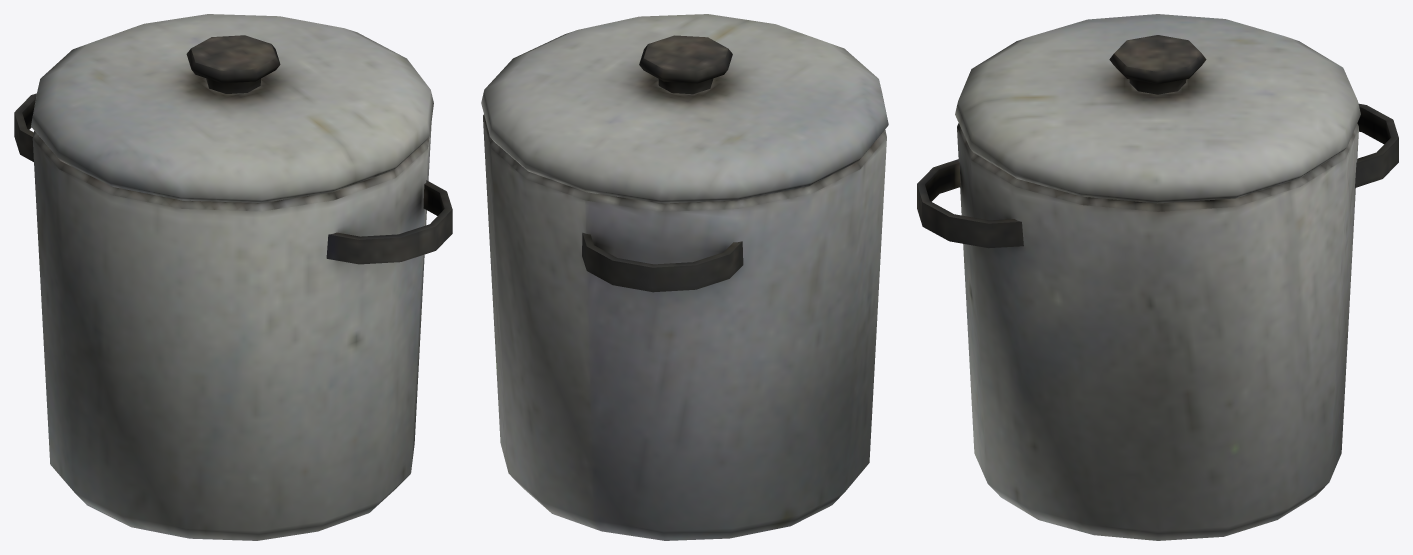
Rendered from MetalContainer.FBX.
3 views of the same model, side by side, from view 1: azimuth 30°, elevation 25°; view 2: azimuth 150°, elevation 25°; view 3: azimuth 270°, elevation 25° (orthographic).
Parts seen in each view (by area): view 1: MetalContainer; view 2: MetalContainer; view 3: MetalContainer.
Boxes of the visible parts, left/top/right/bottom form: MetalContainer: left=14, top=14, right=452, bottom=540; MetalContainer: left=481, top=14, right=888, bottom=540; MetalContainer: left=917, top=14, right=1398, bottom=540.
Bounding box in the file's own units: 26.69 × 30.95 × 31.68.
